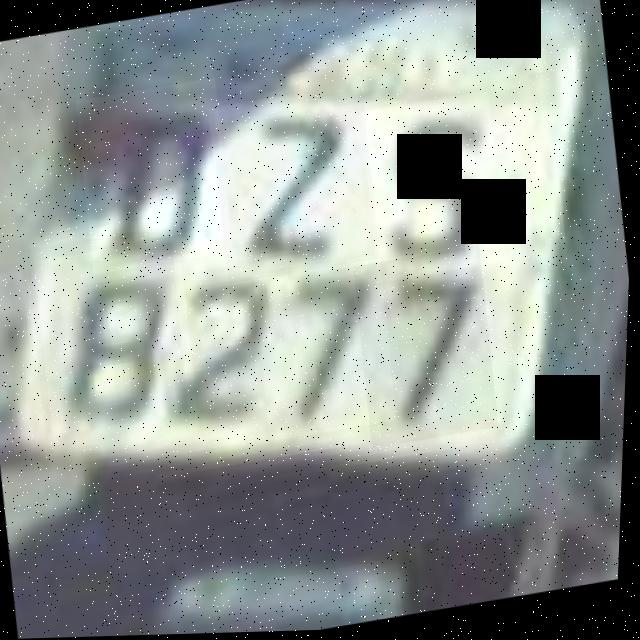2: (143, 251, 312, 449)
7: (350, 248, 507, 452), (250, 256, 405, 444)
8: (31, 238, 208, 455)
B: (22, 226, 201, 456)
O: (72, 78, 241, 276)
S: (356, 93, 513, 286)
Z: (207, 90, 387, 286)
